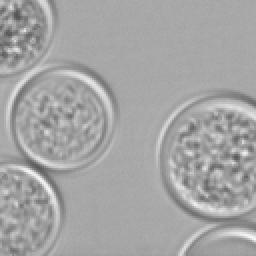picoshell: (156, 90, 254, 218), (6, 64, 116, 172), (0, 156, 62, 254), (178, 220, 254, 254)
